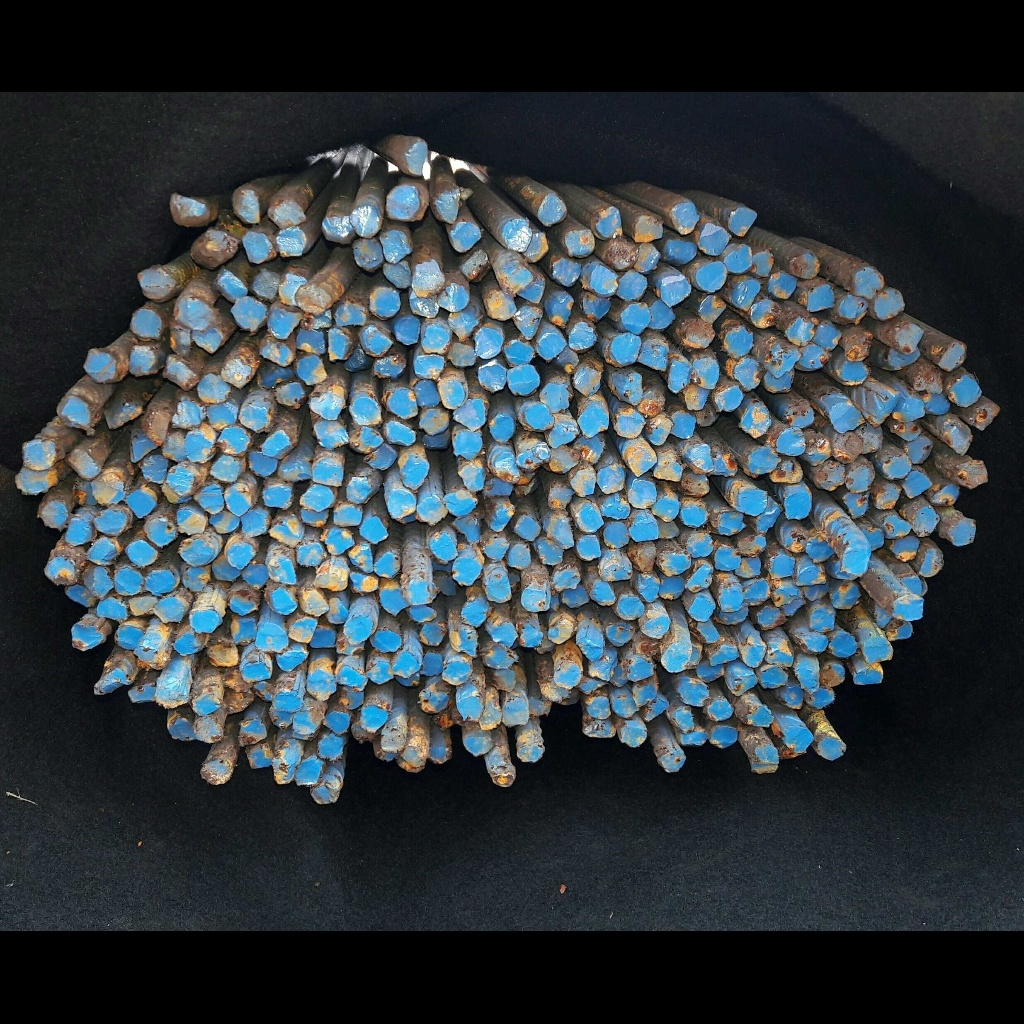dipstick: (189, 229, 236, 267), (56, 395, 92, 431), (170, 192, 206, 226), (412, 261, 445, 298), (138, 266, 176, 298), (232, 297, 267, 331), (766, 342, 801, 376), (175, 296, 211, 329), (575, 403, 609, 437), (268, 305, 301, 339), (164, 356, 197, 390), (386, 186, 419, 220), (584, 262, 617, 296), (105, 400, 144, 428), (15, 467, 58, 492), (399, 453, 428, 490), (547, 414, 579, 447), (215, 269, 246, 303), (268, 200, 305, 228), (293, 284, 330, 312), (698, 223, 730, 255), (243, 232, 276, 263), (359, 324, 392, 355), (740, 403, 771, 436), (21, 439, 55, 469), (380, 229, 410, 263), (843, 327, 873, 361), (867, 391, 897, 425), (309, 391, 344, 420), (516, 441, 551, 470), (91, 474, 123, 505), (179, 534, 211, 565), (460, 250, 491, 282), (853, 266, 884, 298), (844, 460, 875, 492), (680, 319, 714, 348), (232, 188, 260, 223), (314, 419, 349, 447), (85, 350, 116, 381), (607, 238, 638, 269), (677, 676, 708, 707), (831, 431, 862, 462), (82, 566, 112, 598), (453, 399, 485, 429), (323, 215, 355, 245), (546, 291, 573, 326), (482, 643, 518, 669), (271, 516, 302, 546), (369, 287, 400, 317), (450, 222, 481, 252), (696, 261, 726, 292), (734, 358, 764, 389), (764, 637, 795, 667), (949, 376, 980, 406), (256, 623, 288, 652), (830, 403, 862, 432), (515, 305, 543, 338), (276, 227, 306, 257), (130, 309, 160, 339), (387, 388, 417, 418), (68, 449, 99, 478), (353, 235, 382, 266), (409, 290, 440, 319), (486, 292, 517, 321), (563, 228, 594, 257), (622, 302, 651, 333), (876, 288, 905, 319), (197, 374, 229, 402), (145, 517, 177, 545), (45, 557, 77, 585), (438, 283, 470, 311), (640, 339, 668, 371), (803, 433, 831, 465), (746, 446, 779, 473), (145, 411, 171, 445), (184, 432, 213, 462), (420, 684, 449, 714), (509, 365, 539, 394), (617, 270, 646, 300), (661, 275, 690, 305), (166, 466, 197, 494), (224, 484, 252, 515), (474, 327, 502, 358), (351, 206, 379, 237), (611, 333, 639, 364), (957, 460, 988, 488), (206, 402, 238, 429), (217, 428, 249, 455), (374, 351, 406, 378), (504, 219, 531, 251), (260, 340, 293, 366), (299, 485, 333, 510), (349, 427, 383, 452), (138, 641, 167, 670), (437, 379, 466, 408), (540, 383, 569, 412), (628, 447, 657, 476), (660, 643, 689, 672), (783, 725, 812, 754), (872, 480, 901, 509), (261, 431, 291, 459), (157, 679, 187, 707), (301, 586, 329, 616), (350, 397, 380, 425), (449, 312, 479, 340), (451, 558, 481, 586), (538, 333, 568, 361), (750, 300, 780, 328), (816, 461, 844, 491), (895, 323, 923, 353), (943, 423, 971, 453), (279, 274, 306, 305), (221, 359, 252, 386), (71, 623, 102, 650), (501, 267, 532, 294), (594, 206, 621, 237), (770, 580, 801, 607), (663, 239, 696, 264), (436, 186, 458, 223), (313, 458, 342, 486), (388, 489, 416, 518), (538, 195, 566, 224), (729, 208, 757, 237), (724, 327, 753, 355), (786, 316, 814, 345), (938, 342, 966, 371), (127, 490, 157, 517), (317, 562, 347, 589), (323, 528, 353, 555), (380, 587, 407, 617), (616, 374, 643, 404), (902, 436, 932, 463), (126, 540, 157, 566), (366, 443, 397, 469), (522, 403, 553, 429), (668, 360, 692, 393), (173, 400, 201, 428), (66, 518, 94, 546), (228, 541, 256, 569), (308, 671, 336, 699), (268, 557, 296, 585), (575, 504, 603, 532), (732, 280, 760, 308), (840, 293, 868, 321), (831, 582, 859, 610), (297, 356, 326, 383), (269, 588, 298, 615), (419, 407, 448, 434), (453, 431, 482, 458), (422, 324, 449, 353), (554, 660, 581, 689), (583, 291, 610, 320), (814, 322, 841, 351), (739, 489, 768, 516), (727, 668, 756, 695), (177, 508, 207, 534), (229, 589, 259, 615), (343, 617, 373, 643), (405, 580, 435, 606), (327, 329, 353, 359), (335, 300, 365, 326), (489, 502, 515, 532), (671, 203, 697, 233), (692, 358, 718, 388), (129, 345, 154, 376), (201, 759, 232, 784), (190, 609, 222, 633), (770, 460, 803, 483), (197, 485, 224, 513), (88, 538, 116, 565), (114, 568, 142, 595), (597, 465, 624, 493), (553, 258, 580, 286), (725, 244, 752, 272), (616, 411, 644, 438), (777, 428, 805, 455), (629, 480, 656, 508), (903, 471, 931, 498), (806, 535, 834, 562), (947, 518, 975, 545), (239, 405, 268, 431), (130, 432, 156, 461), (415, 354, 444, 380), (504, 338, 533, 364), (451, 627, 477, 656), (521, 586, 550, 612), (577, 631, 603, 660), (634, 243, 660, 272), (863, 636, 892, 662), (890, 534, 919, 560), (211, 555, 241, 580), (208, 642, 238, 667), (445, 491, 475, 516), (385, 420, 415, 445), (549, 519, 574, 549), (600, 494, 630, 519), (647, 415, 672, 445), (794, 630, 828, 652), (94, 510, 126, 533), (600, 557, 632, 580), (430, 532, 457, 559), (418, 496, 445, 523), (485, 575, 512, 602), (461, 600, 488, 627), (699, 295, 726, 322), (769, 272, 796, 299), (743, 579, 770, 606), (114, 624, 142, 650), (289, 617, 317, 643), (337, 664, 365, 690), (360, 517, 388, 543), (414, 378, 440, 406), (634, 214, 662, 240), (756, 605, 784, 631), (841, 548, 867, 576), (210, 456, 239, 481), (790, 253, 819, 278), (687, 444, 712, 473), (752, 744, 777, 773), (242, 658, 272, 682), (395, 314, 419, 344), (524, 233, 548, 263), (661, 551, 691, 575), (406, 140, 427, 174), (153, 598, 184, 621), (892, 595, 923, 618), (245, 742, 272, 768), (479, 365, 506, 391), (551, 445, 578, 471), (481, 533, 508, 559), (569, 322, 595, 349), (689, 595, 715, 622), (275, 380, 303, 405), (230, 619, 258, 644), (765, 368, 793, 393), (913, 507, 938, 535), (143, 454, 167, 483), (193, 717, 222, 741), (238, 719, 267, 743), (293, 709, 322, 733), (262, 485, 291, 509), (491, 414, 515, 443), (882, 454, 911, 478), (210, 510, 240, 533), (574, 368, 600, 394), (688, 564, 714, 590), (787, 403, 813, 429), (168, 715, 195, 740), (490, 622, 517, 647), (553, 564, 580, 589), (785, 492, 810, 519), (617, 595, 644, 620), (249, 451, 277, 475), (297, 330, 325, 354), (587, 656, 615, 680), (896, 398, 924, 422), (919, 548, 943, 576), (145, 570, 174, 593), (97, 599, 126, 622), (310, 780, 339, 803), (442, 661, 471, 684), (350, 544, 373, 573), (805, 685, 834, 708), (583, 718, 616, 738), (43, 501, 68, 527), (362, 706, 388, 731), (367, 660, 393, 685), (375, 551, 400, 577), (345, 477, 371, 502), (571, 470, 596, 496), (649, 301, 674, 327), (808, 284, 833, 310), (740, 641, 765, 667), (809, 608, 835, 633), (830, 632, 856, 657), (461, 464, 485, 491), (671, 410, 695, 437), (975, 402, 999, 429), (193, 692, 221, 715), (547, 620, 575, 643), (605, 623, 634, 645), (796, 563, 825, 585), (640, 616, 670, 637), (456, 695, 481, 720), (503, 700, 528, 725), (604, 522, 629, 547), (297, 542, 323, 566), (393, 652, 419, 676), (653, 497, 679, 521), (626, 658, 652, 682), (715, 386, 742, 409), (630, 518, 657, 541), (719, 586, 742, 613), (654, 459, 682, 481), (680, 505, 708, 527), (818, 737, 846, 759), (760, 665, 788, 687), (372, 630, 401, 651), (273, 692, 303, 712), (349, 571, 379, 591), (549, 484, 573, 509), (516, 515, 541, 539), (576, 534, 601, 558), (735, 535, 765, 555), (244, 564, 270, 587), (449, 342, 475, 365), (591, 579, 614, 605), (717, 512, 743, 535), (326, 597, 348, 624), (489, 669, 516, 691), (883, 516, 910, 538), (418, 624, 446, 645), (638, 573, 659, 601), (296, 761, 320, 785), (317, 734, 341, 758), (612, 694, 636, 718), (621, 722, 645, 746), (324, 711, 349, 734), (490, 764, 515, 787), (841, 361, 866, 384), (686, 534, 712, 556), (715, 548, 741, 570), (711, 726, 737, 748), (174, 633, 201, 654), (508, 544, 530, 569), (520, 623, 542, 648), (932, 485, 958, 506), (332, 506, 360, 525), (632, 681, 655, 704), (821, 664, 844, 687), (382, 730, 406, 752), (586, 696, 610, 718), (660, 750, 684, 772), (310, 627, 336, 647), (753, 250, 773, 276), (747, 706, 773, 726), (465, 735, 492, 754), (710, 645, 737, 664), (519, 739, 542, 761), (268, 706, 292, 727), (708, 699, 732, 720), (674, 706, 693, 732), (797, 668, 818, 690), (770, 557, 793, 577), (423, 652, 442, 676), (428, 746, 453, 763), (854, 669, 881, 683)
